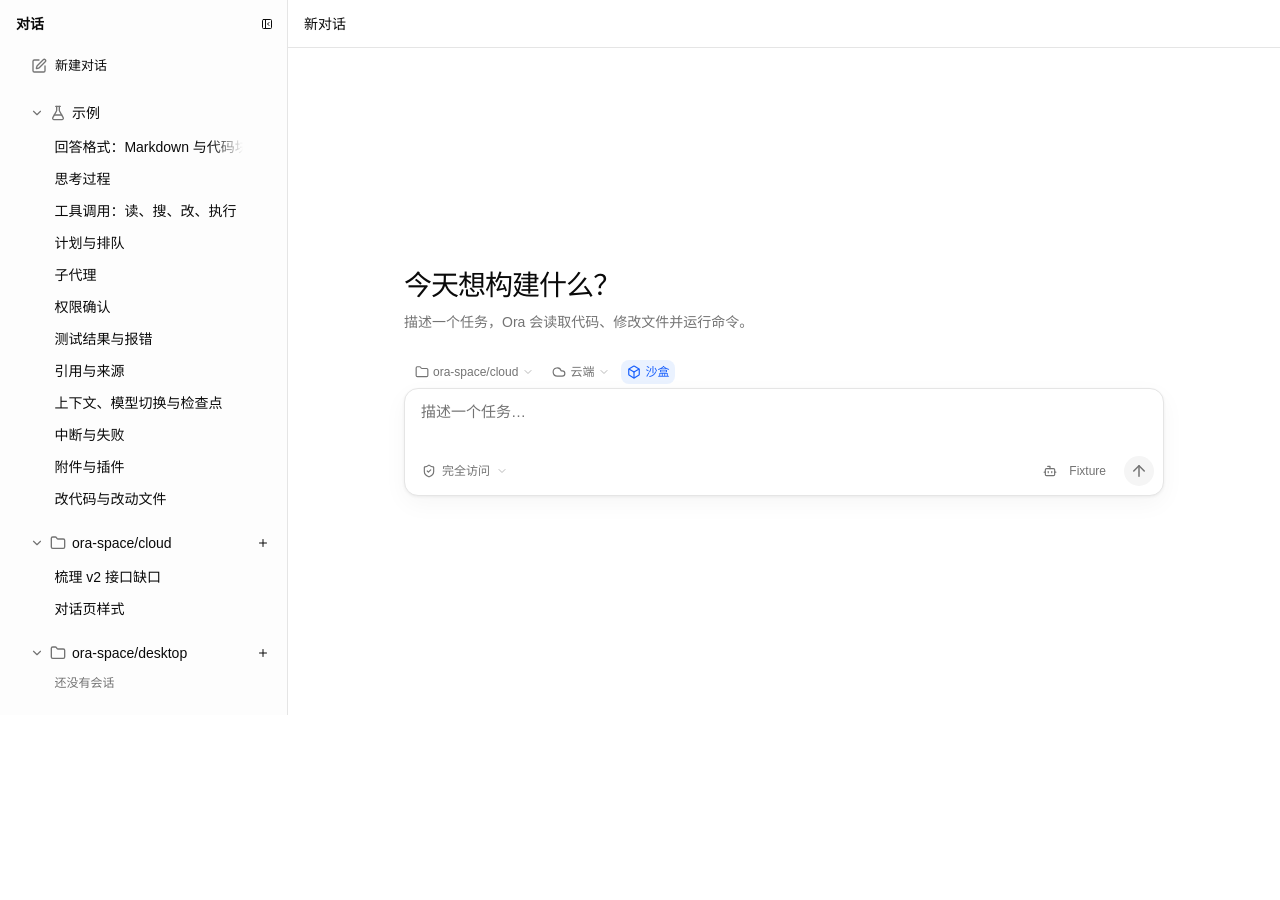
it: workflow runs in chat › goes back to the chat when a session is picked
Expected: the element named "项目 ora-space/cloud" is shown, [8,527,279,629]
Step 1. Click the button named "在 ora-space/cloud 新建对话" → click(263, 543), box [251,531,275,555]
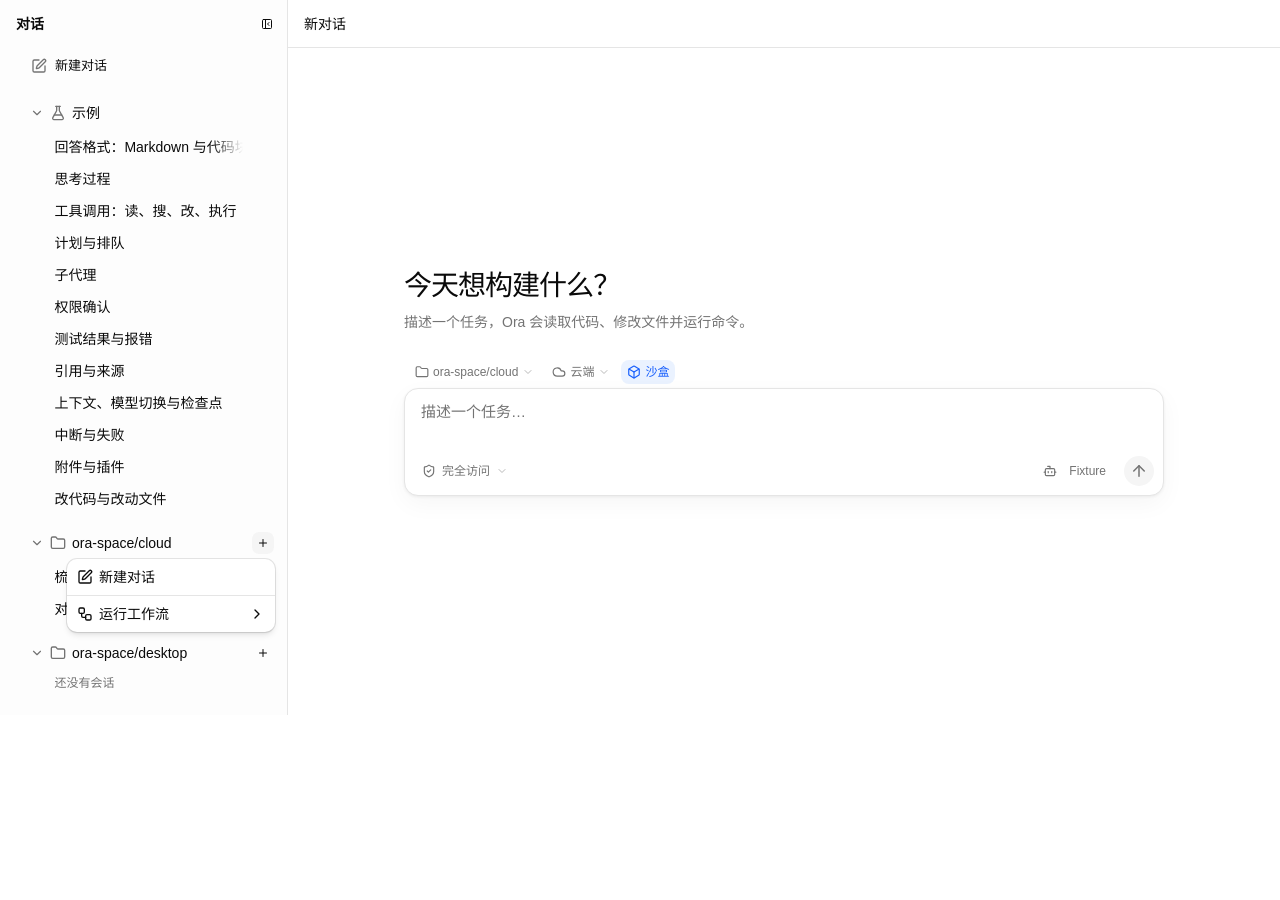
Step 2. Click the menu item "运行工作流" → click(171, 614), box [77,606,265,622]
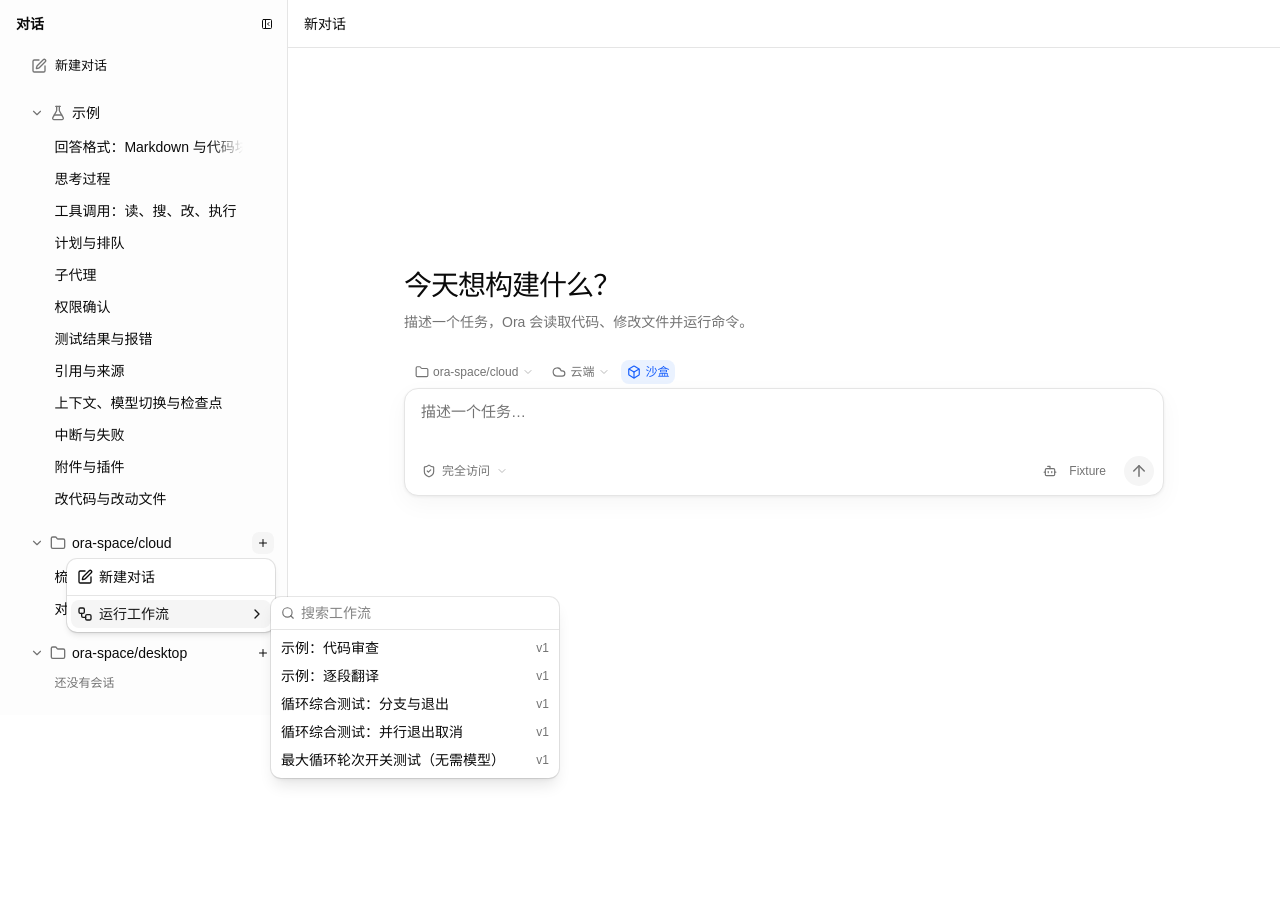
Step 3. Click the menu item "示例：代码审查 v1" → click(330, 648), box [281,640,549,656]
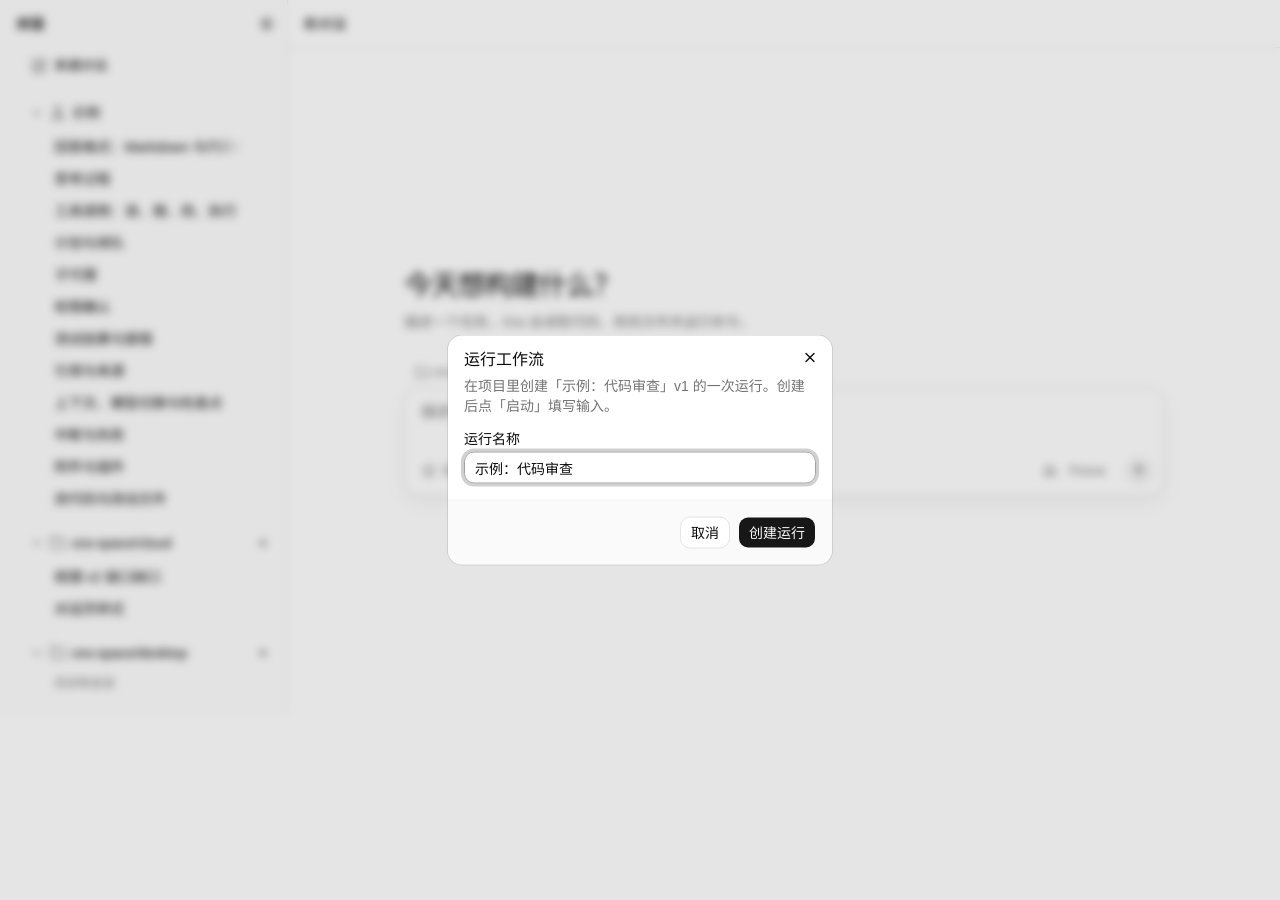
Step 4. Replace the text in the field labelled "运行名称" with "临时运行" → (640, 468), box [464,452,816,484]
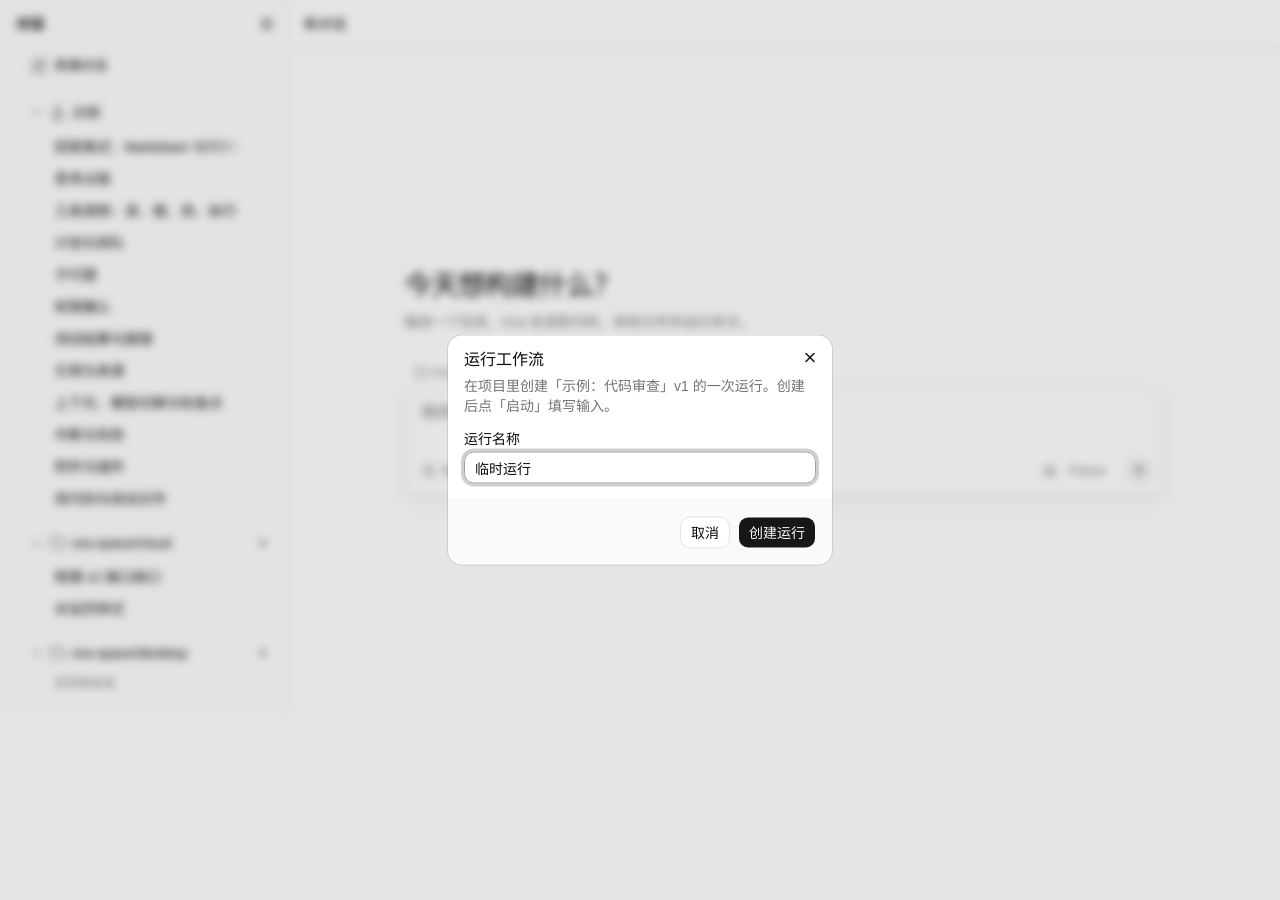
Step 5. Click the button "创建运行" → click(777, 532), box [738,516,816,548]
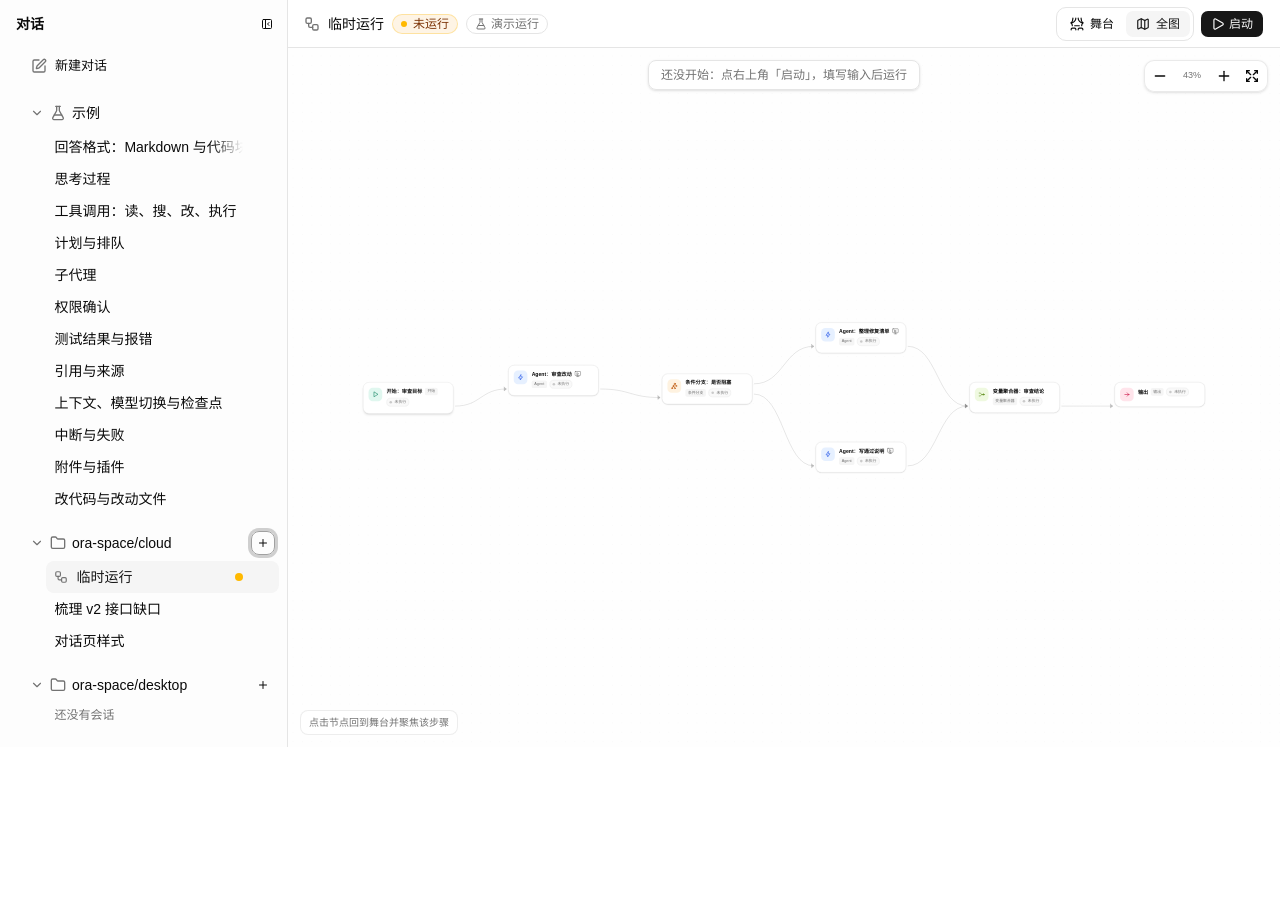
Expected: the heading "临时运行" is shown, [328,14,384,34]
Step 6. Click the button "梳理 v2 接口缺口" → click(149, 609), box [46,593,251,625]
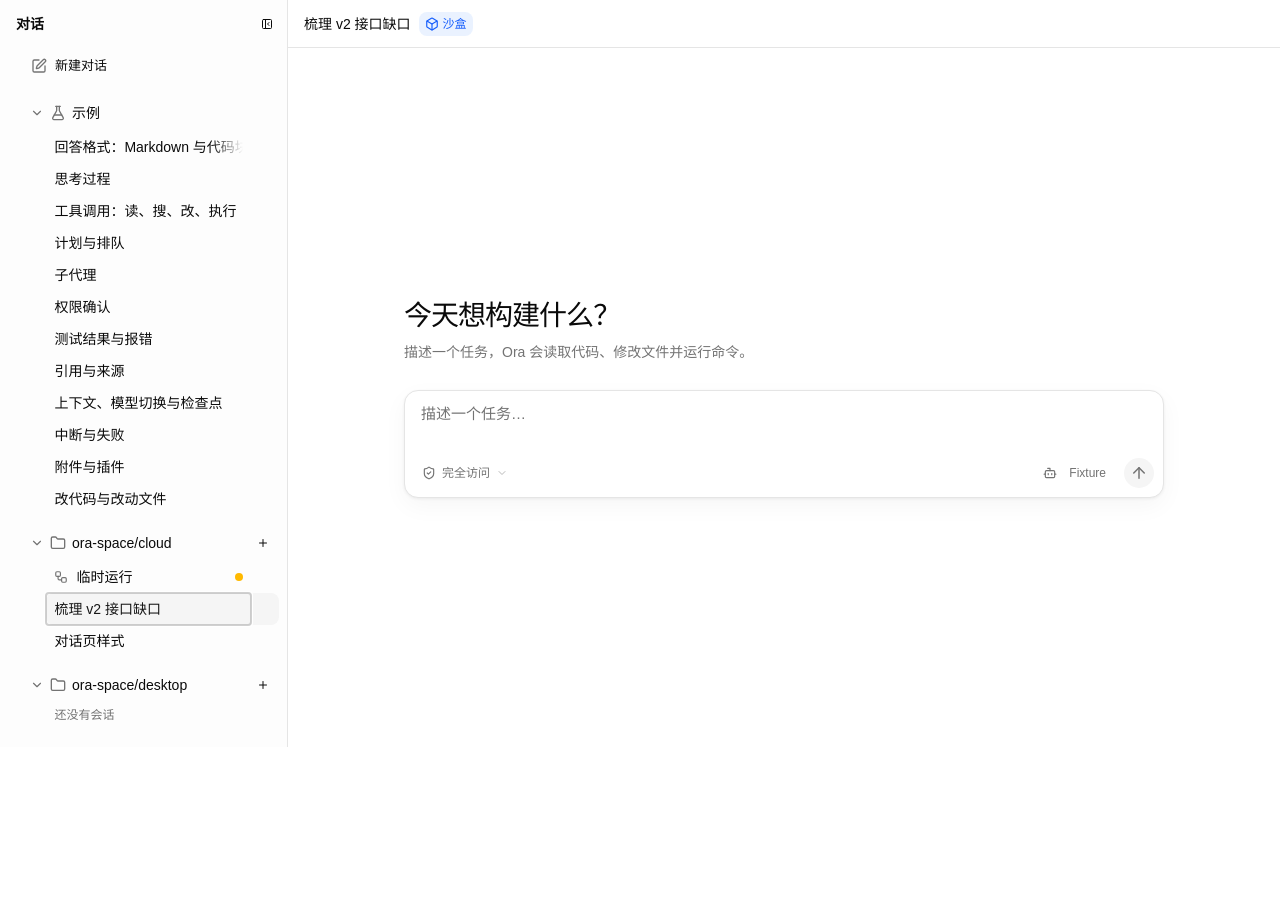
Expected: the heading "梳理 v2 接口缺口" is shown, [304,14,411,34]
